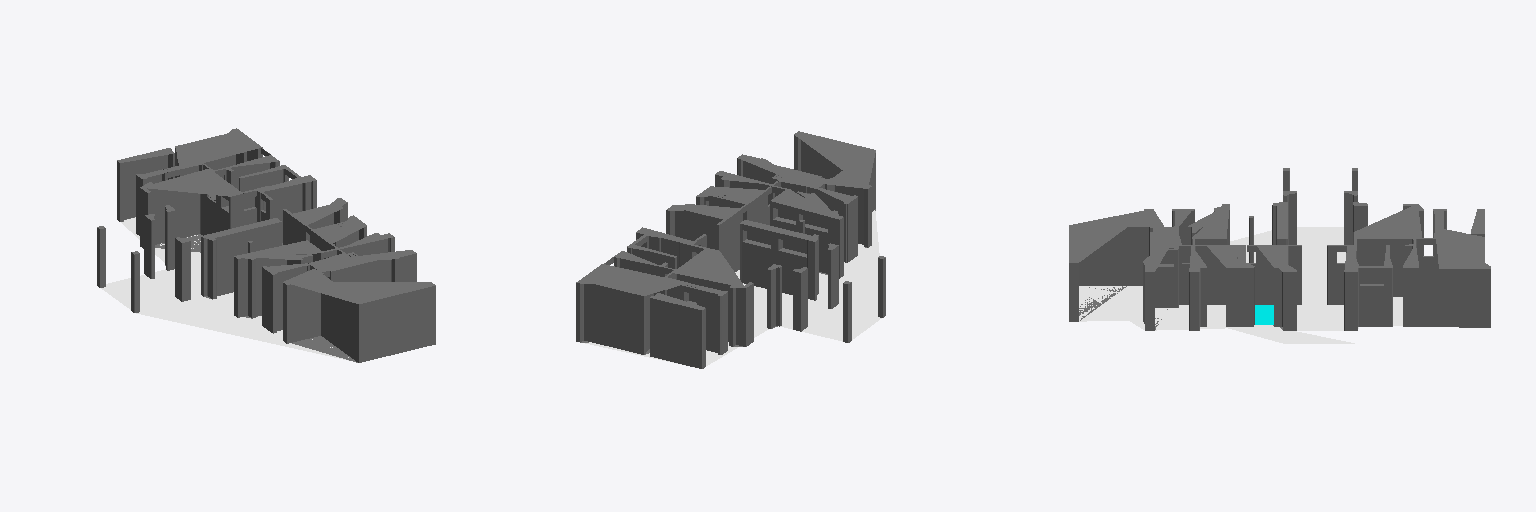
The model's file is add75a9e-eaad-4050-bb13-1dcffcd46612.obj.
3 renders of one model, left to right at view 1: azimuth 30°, elevation 25°; view 2: azimuth 150°, elevation 25°; view 3: azimuth 270°, elevation 25°, orthographic.
Parts seen in each view (by area): view 1: Floor, Box13Wall328, VertWalls27, Box17Wall451, Box13Wall327, Box14Wall351, VertWalls17, Box13Wall325, VertWalls29, Box7Wall172, VertWalls31, Box1Wall23 (+12 smaller); view 2: Floor, Box8Wall224, Box10Wall274, VertWalls27, VertWalls17, VertWalls29, Box3Wall75, Box57Wall229, Box3Wall80, VertWalls31, Box11Wall289, VertWalls15 (+6 smaller); view 3: Floor, Box13Wall335, Box8Wall220, VertWalls27, VertWalls17, Box14Wall372, Box4Wall97, VertWalls29, Box32Wall130, Box4Wall82, Box6Wall149, Box3Wall62 (+12 smaller).
Part boxes in pixels (left/top/right/bottom): Floor: left=101, top=221, right=348, bottom=360; Box13Wall328: left=359, top=286, right=435, bottom=362; VertWalls27: left=283, top=269, right=435, bottom=303; Box17Wall451: left=215, top=222, right=281, bottom=295; Box13Wall327: left=321, top=293, right=358, bottom=362; Box14Wall351: left=147, top=188, right=199, bottom=244; VertWalls17: left=175, top=128, right=261, bottom=168; Box13Wall325: left=287, top=284, right=320, bottom=343; VertWalls29: left=140, top=168, right=242, bottom=196; Box7Wall172: left=331, top=260, right=390, bottom=281; VertWalls31: left=234, top=240, right=323, bottom=259; Box1Wall23: left=269, top=184, right=301, bottom=242; Floor: left=585, top=210, right=881, bottom=367; Box8Wall224: left=584, top=284, right=643, bottom=354; Box10Wall274: left=650, top=298, right=701, bottom=368; VertWalls27: left=794, top=131, right=875, bottom=188; VertWalls17: left=576, top=264, right=687, bottom=295; VertWalls29: left=671, top=248, right=752, bottom=287; Box3Wall75: left=675, top=210, right=722, bottom=253; Box57Wall229: left=742, top=242, right=770, bottom=288; Box3Wall80: left=719, top=209, right=742, bottom=271; VertWalls31: left=771, top=189, right=842, bottom=219; Box11Wall289: left=697, top=289, right=717, bottom=352; VertWalls15: left=738, top=154, right=821, bottom=186; Floor: left=1079, top=227, right=1402, bottom=343; Box13Wall335: left=1079, top=227, right=1148, bottom=285; Box8Wall220: left=1439, top=269, right=1490, bottom=327; VertWalls27: left=1069, top=209, right=1163, bottom=262; VertWalls17: left=1434, top=228, right=1490, bottom=268; Box14Wall372: left=1357, top=239, right=1411, bottom=296; Box4Wall97: left=1226, top=268, right=1253, bottom=326; VertWalls29: left=1354, top=204, right=1423, bottom=239; Box32Wall130: left=1360, top=286, right=1383, bottom=326; Box4Wall82: left=1205, top=246, right=1225, bottom=304; Box6Wall149: left=1403, top=268, right=1418, bottom=326; Box3Wall62: left=1256, top=246, right=1273, bottom=304.
Size of the model in its own units: 10.66 by 2.5 by 16.24.